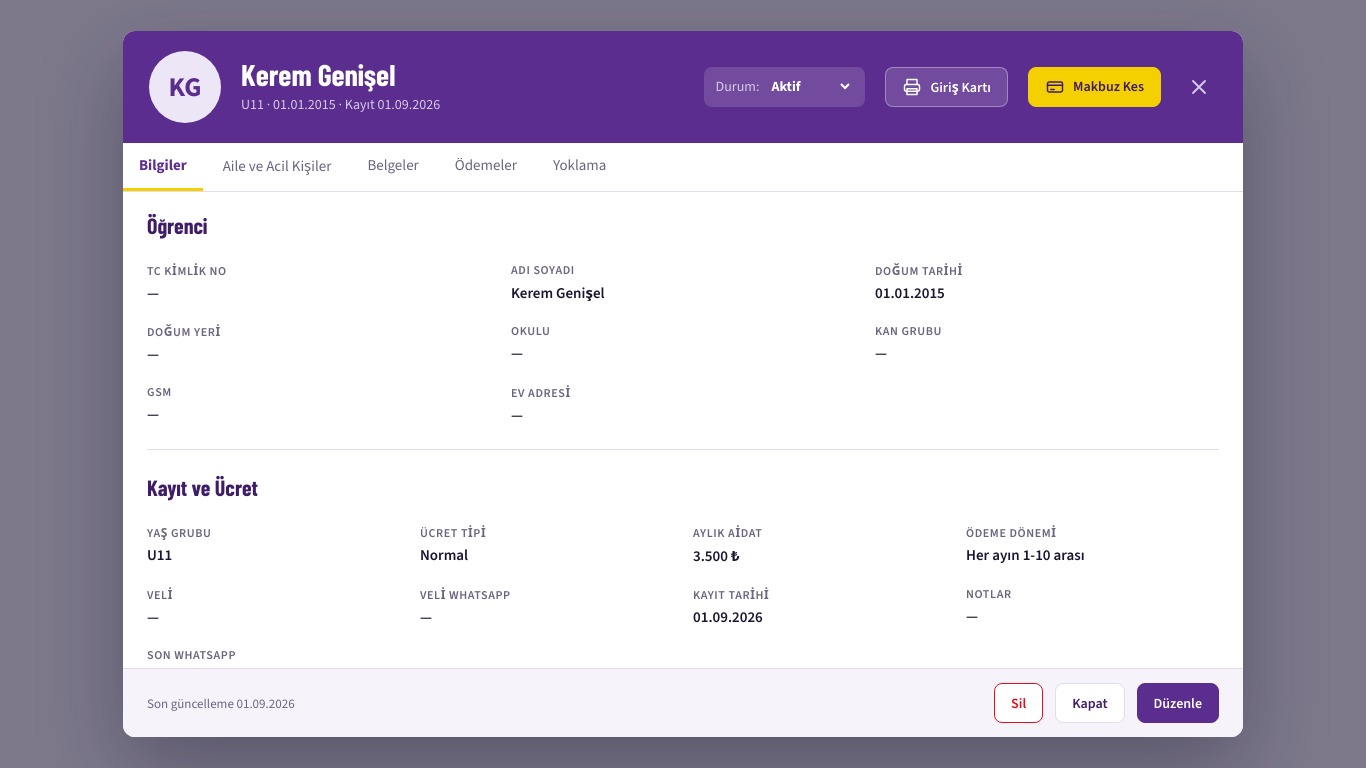
Test: Oyuncu kartı — Sil › hata toast'a düşer (ör. yönetici değil)
The image size is (1366, 768).
Click the button "Sil". click: [1019, 703]
box: [994,683,1043,723]
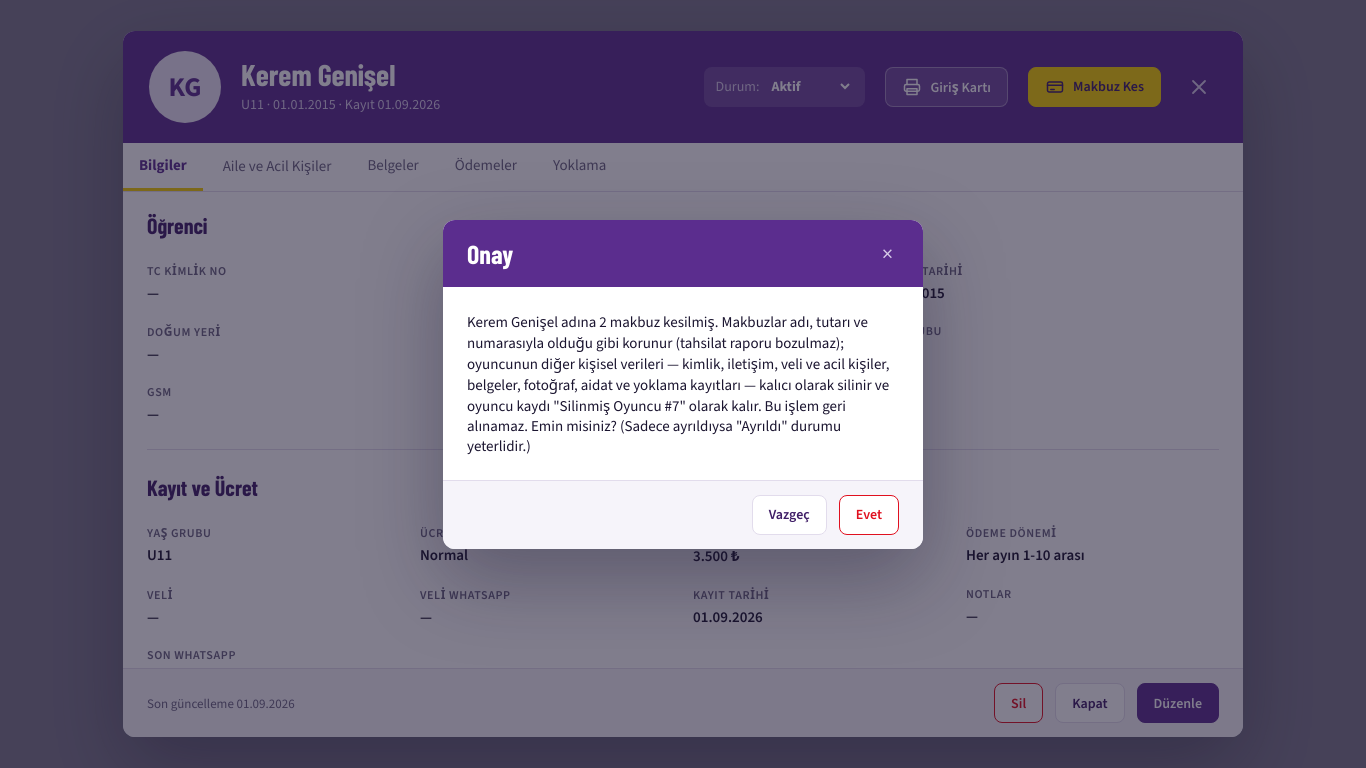
Click the button "Evet". click: [869, 514]
box: [839,494,899,534]
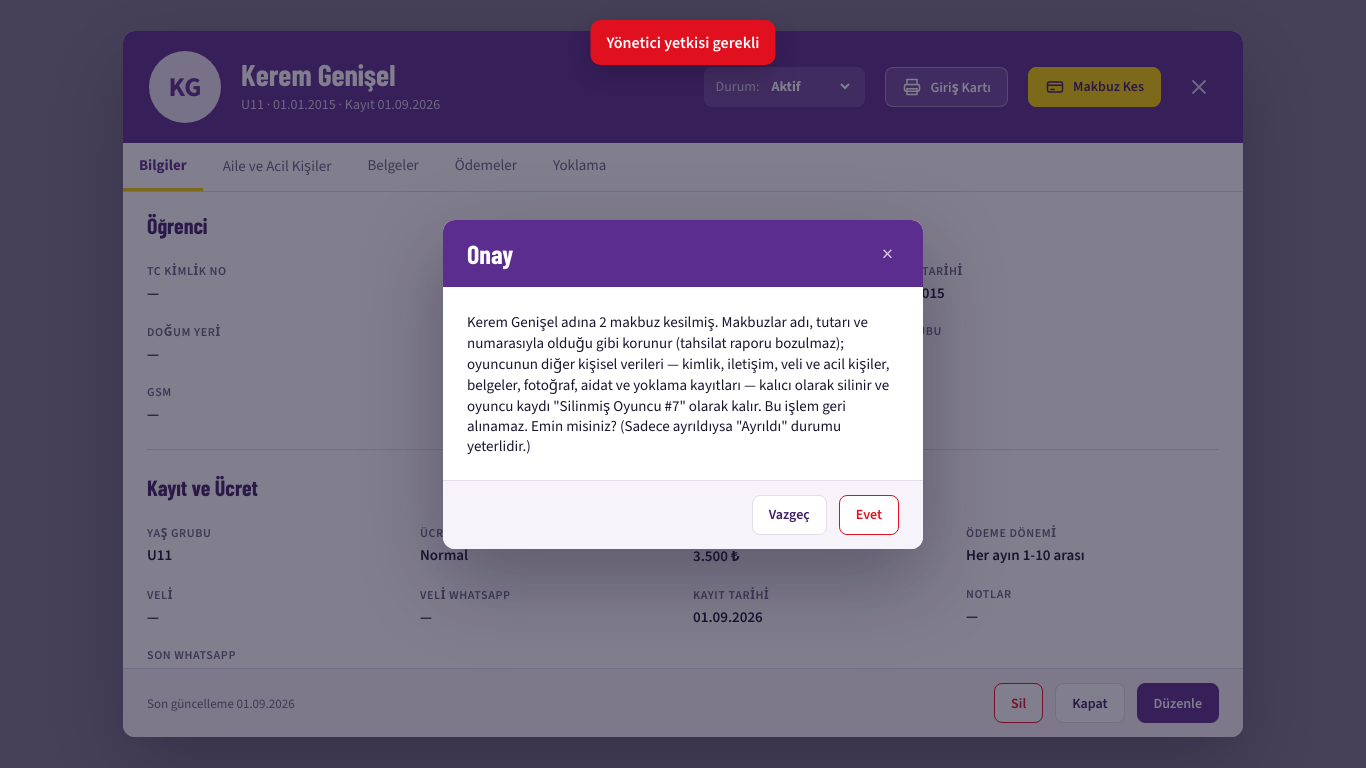
Now the text "Yönetici yetkisi gerekli" is shown, box [590,20,776,65]
